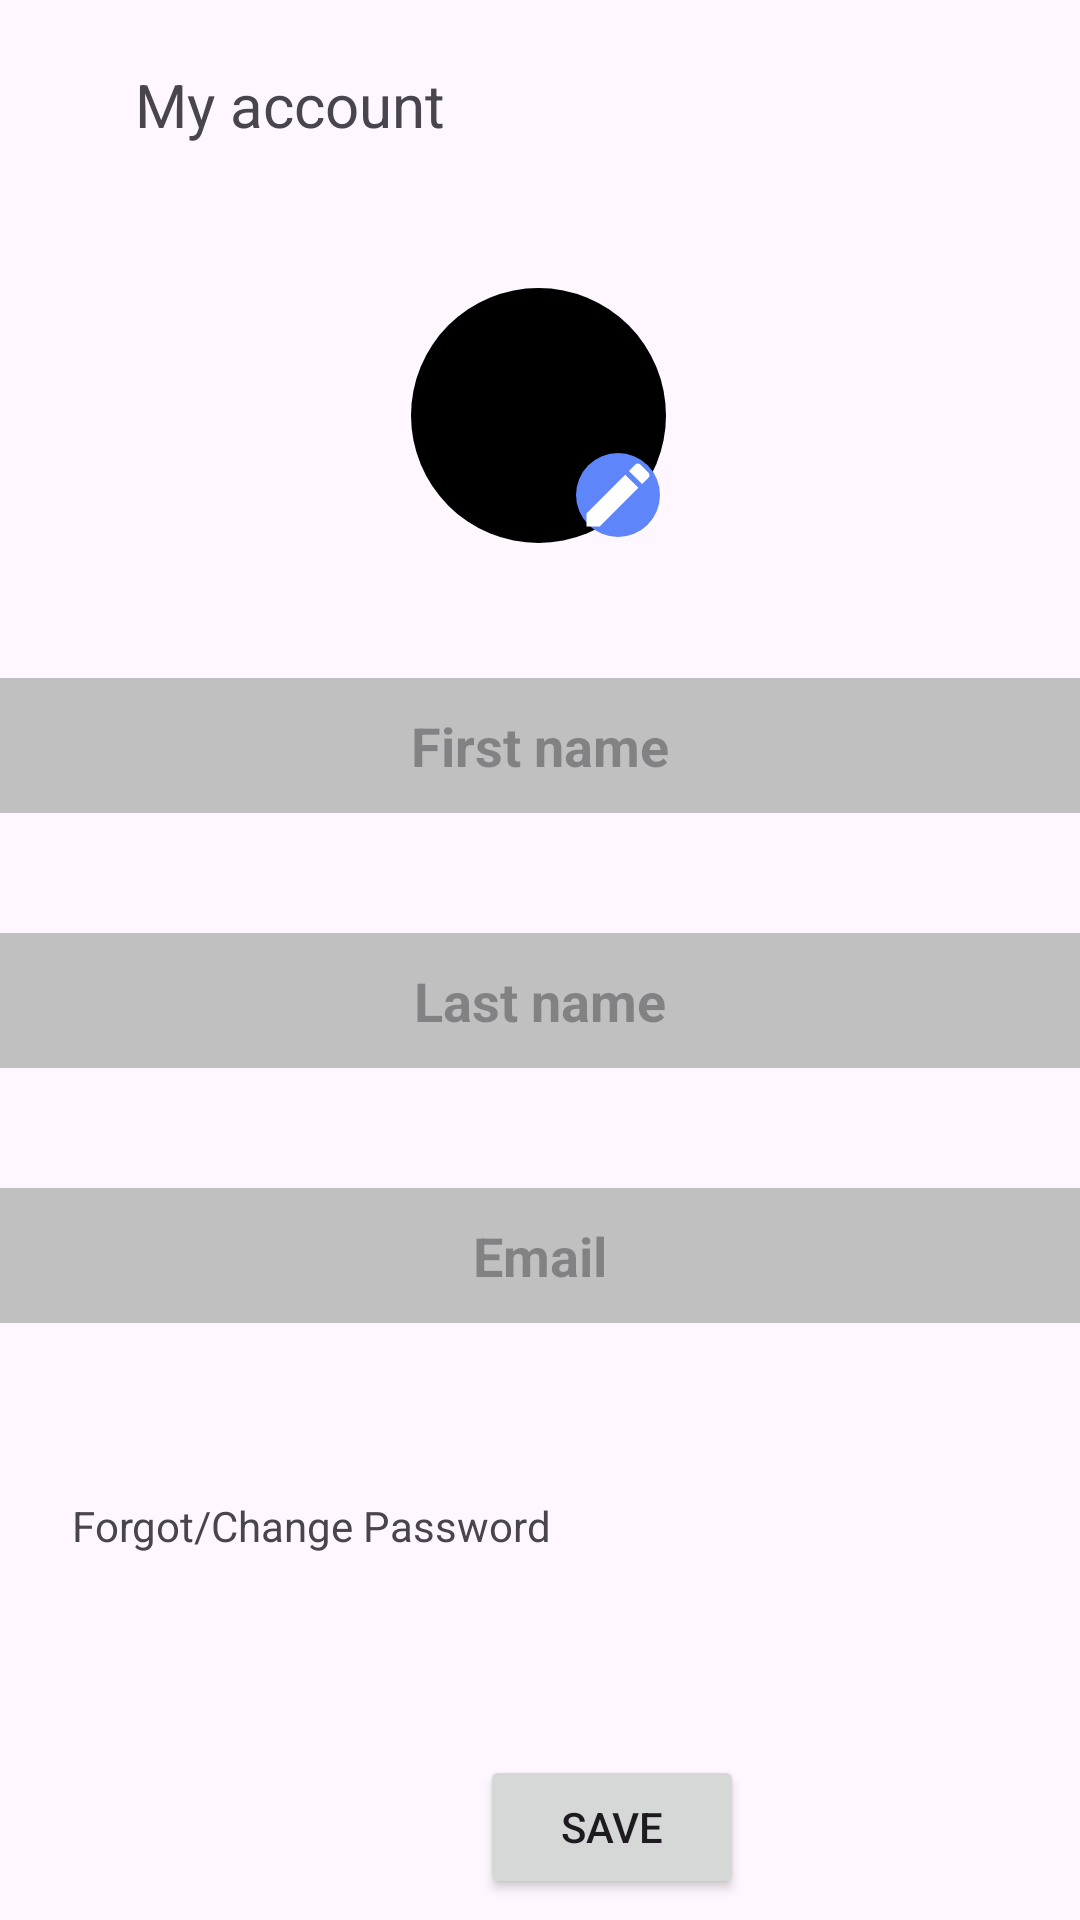

Named icons in this screenshot (1080 x 1920) and their centers, (x,y):
edit: (618,495)
